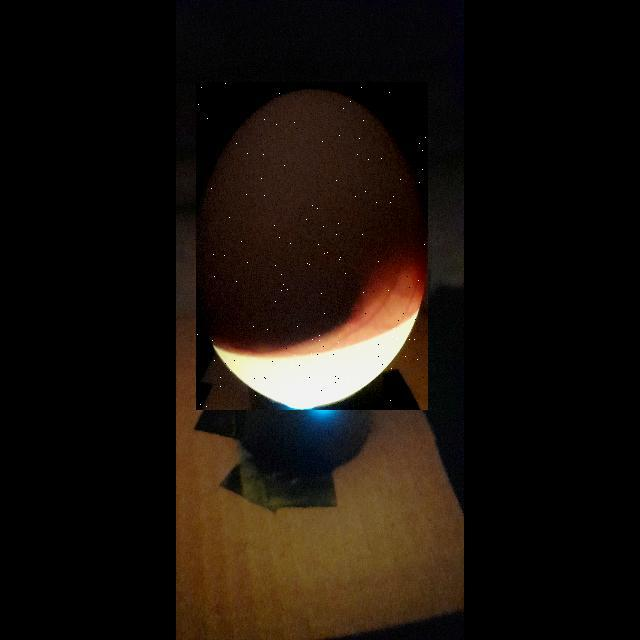Fertile: (196, 82, 428, 410)
